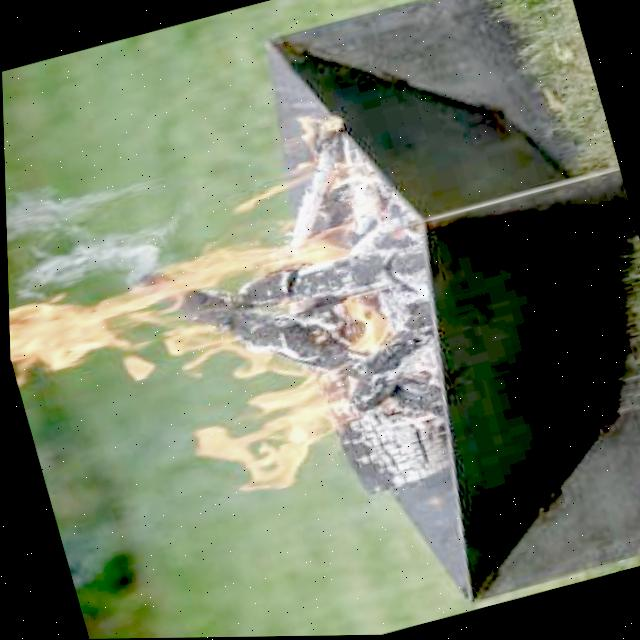Fire: (5, 202, 435, 548)
